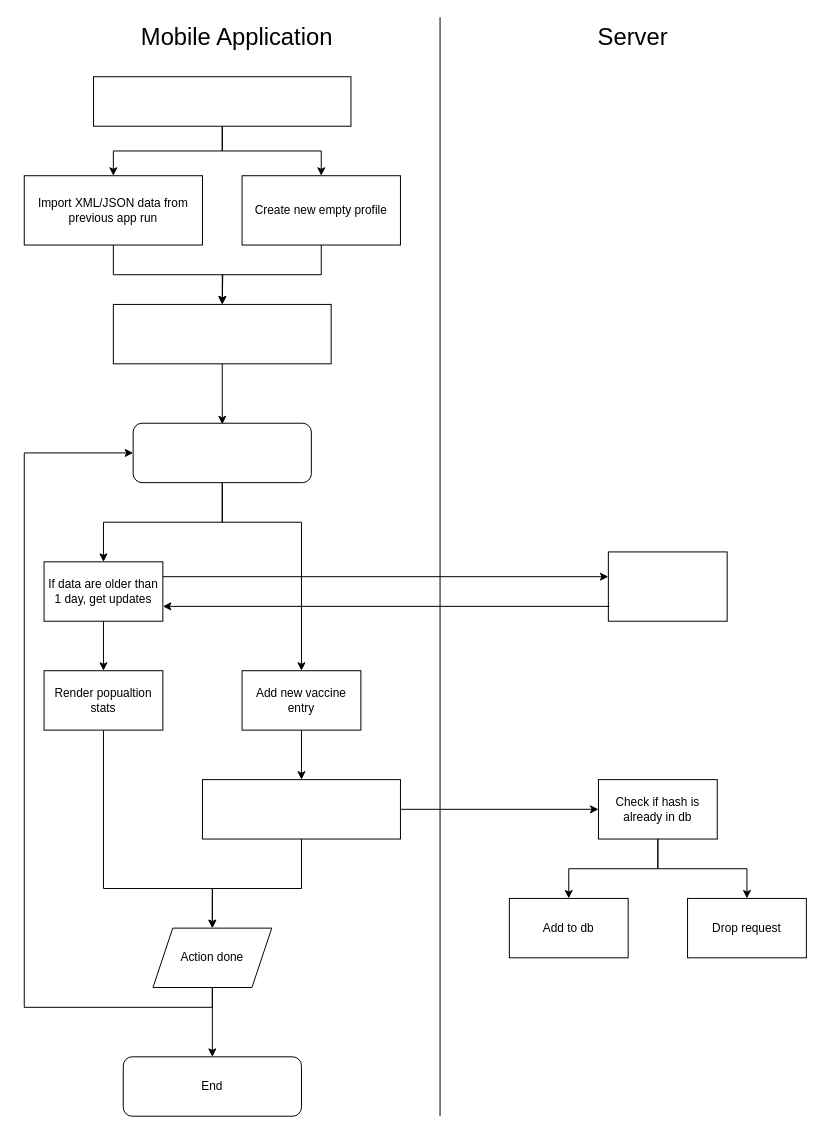
This 824x1135 diagram has some shape labels left out. Each missing label, with the centre of its shape:
"Anonymize hash(ID + disease name + date)" belongs at pixel 300 809.
"Database of population for specific disease" belongs at pixel 667 586.
"Main Screen" belongs at pixel 221 452.
"Register with your national ID" belongs at pixel 222 101.
"Set up password for encryption personal data" belongs at pixel 221 333.
